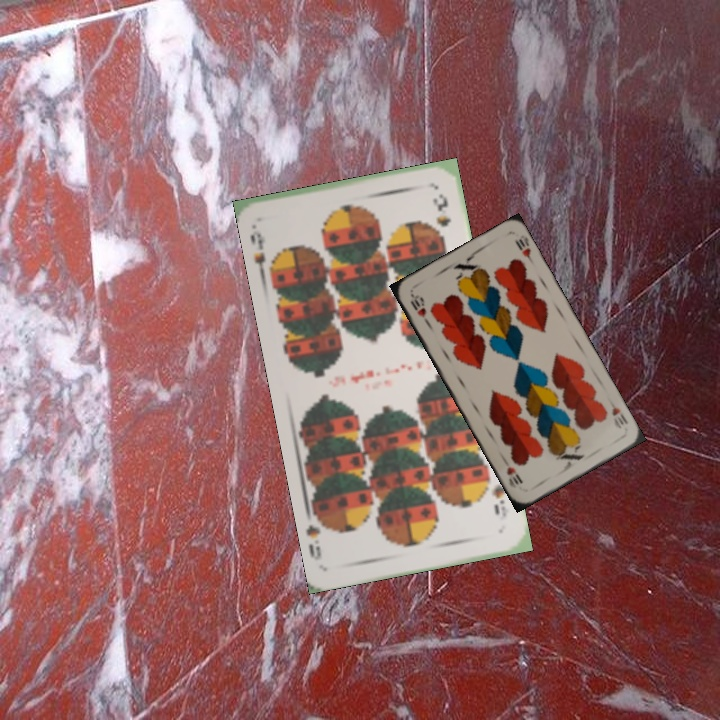H10: (406, 290, 433, 328), (604, 395, 631, 431)
S9: (246, 222, 280, 281), (488, 480, 512, 520)
